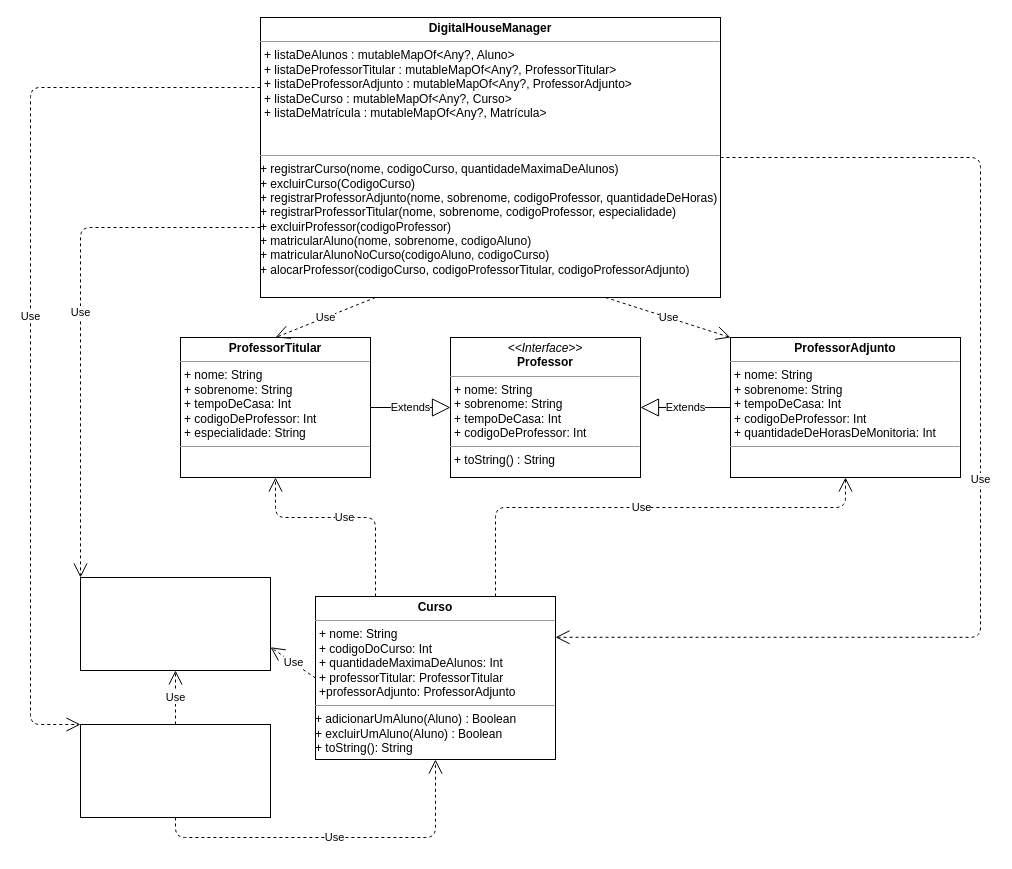
The diagram is 1012 pixels wide and 869 high, and some of its shapes have lost their labels. Here are the shapes that lost their labels. From the top down, the centre of each, then its label:
At [175,623]: "Aluno + nome: String + sobrenome: String + codigoDeAluno: Int".
At [175,771]: "Matrícula + aluno: Aluno + curso: Curso + dataDeMatricula: Int +matricula: Int".
